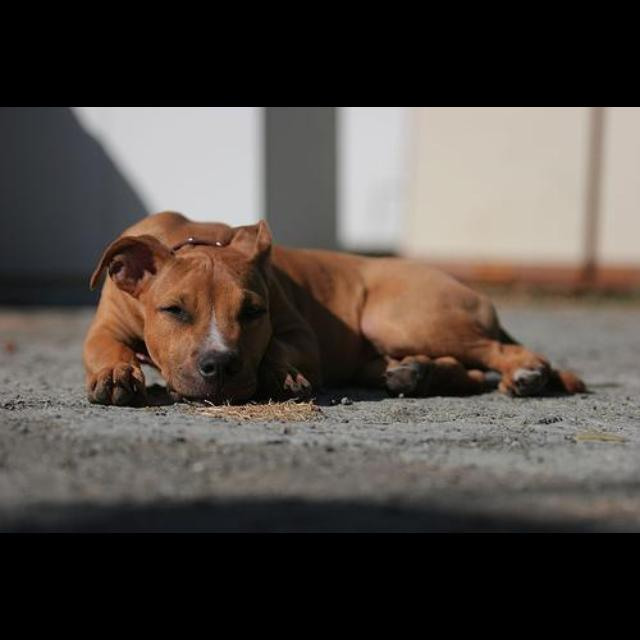amstaff: (82, 211, 588, 408)
